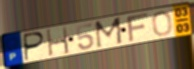5: (75, 22, 95, 51)
F: (125, 11, 150, 44)
H: (45, 25, 71, 58)
M: (94, 16, 125, 50)
O: (151, 10, 174, 37)
P: (23, 31, 46, 63)
